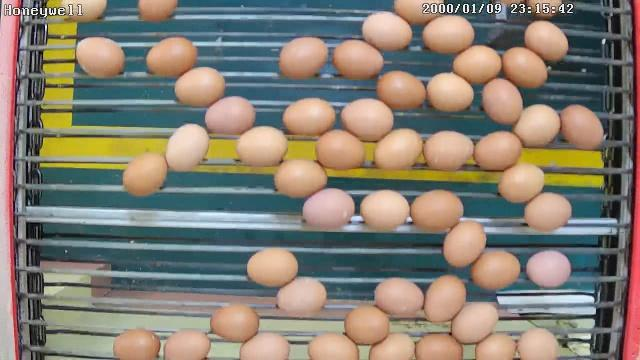egg: (407, 188, 465, 232), (273, 156, 329, 201), (237, 124, 289, 172), (282, 95, 336, 141), (340, 96, 394, 142), (301, 185, 356, 230), (173, 64, 227, 109), (278, 34, 330, 80), (146, 34, 199, 79), (204, 94, 258, 138), (76, 34, 126, 81), (442, 219, 488, 270), (373, 126, 424, 172), (359, 187, 412, 231), (422, 11, 476, 54), (514, 102, 562, 150), (452, 43, 504, 87), (315, 128, 368, 171), (560, 102, 606, 151), (166, 121, 211, 171), (376, 68, 426, 113), (122, 152, 170, 198), (501, 44, 549, 90), (210, 303, 261, 346), (332, 38, 384, 80), (424, 70, 476, 112), (422, 129, 474, 171), (246, 247, 299, 288), (469, 248, 522, 289), (522, 18, 570, 63), (451, 300, 500, 344), (424, 272, 467, 322), (362, 10, 413, 52), (276, 276, 329, 316), (497, 161, 546, 204), (522, 191, 572, 233), (482, 76, 524, 126), (373, 276, 425, 316), (474, 130, 524, 170), (344, 304, 391, 346), (526, 248, 572, 290), (111, 325, 163, 360), (160, 328, 213, 360)
